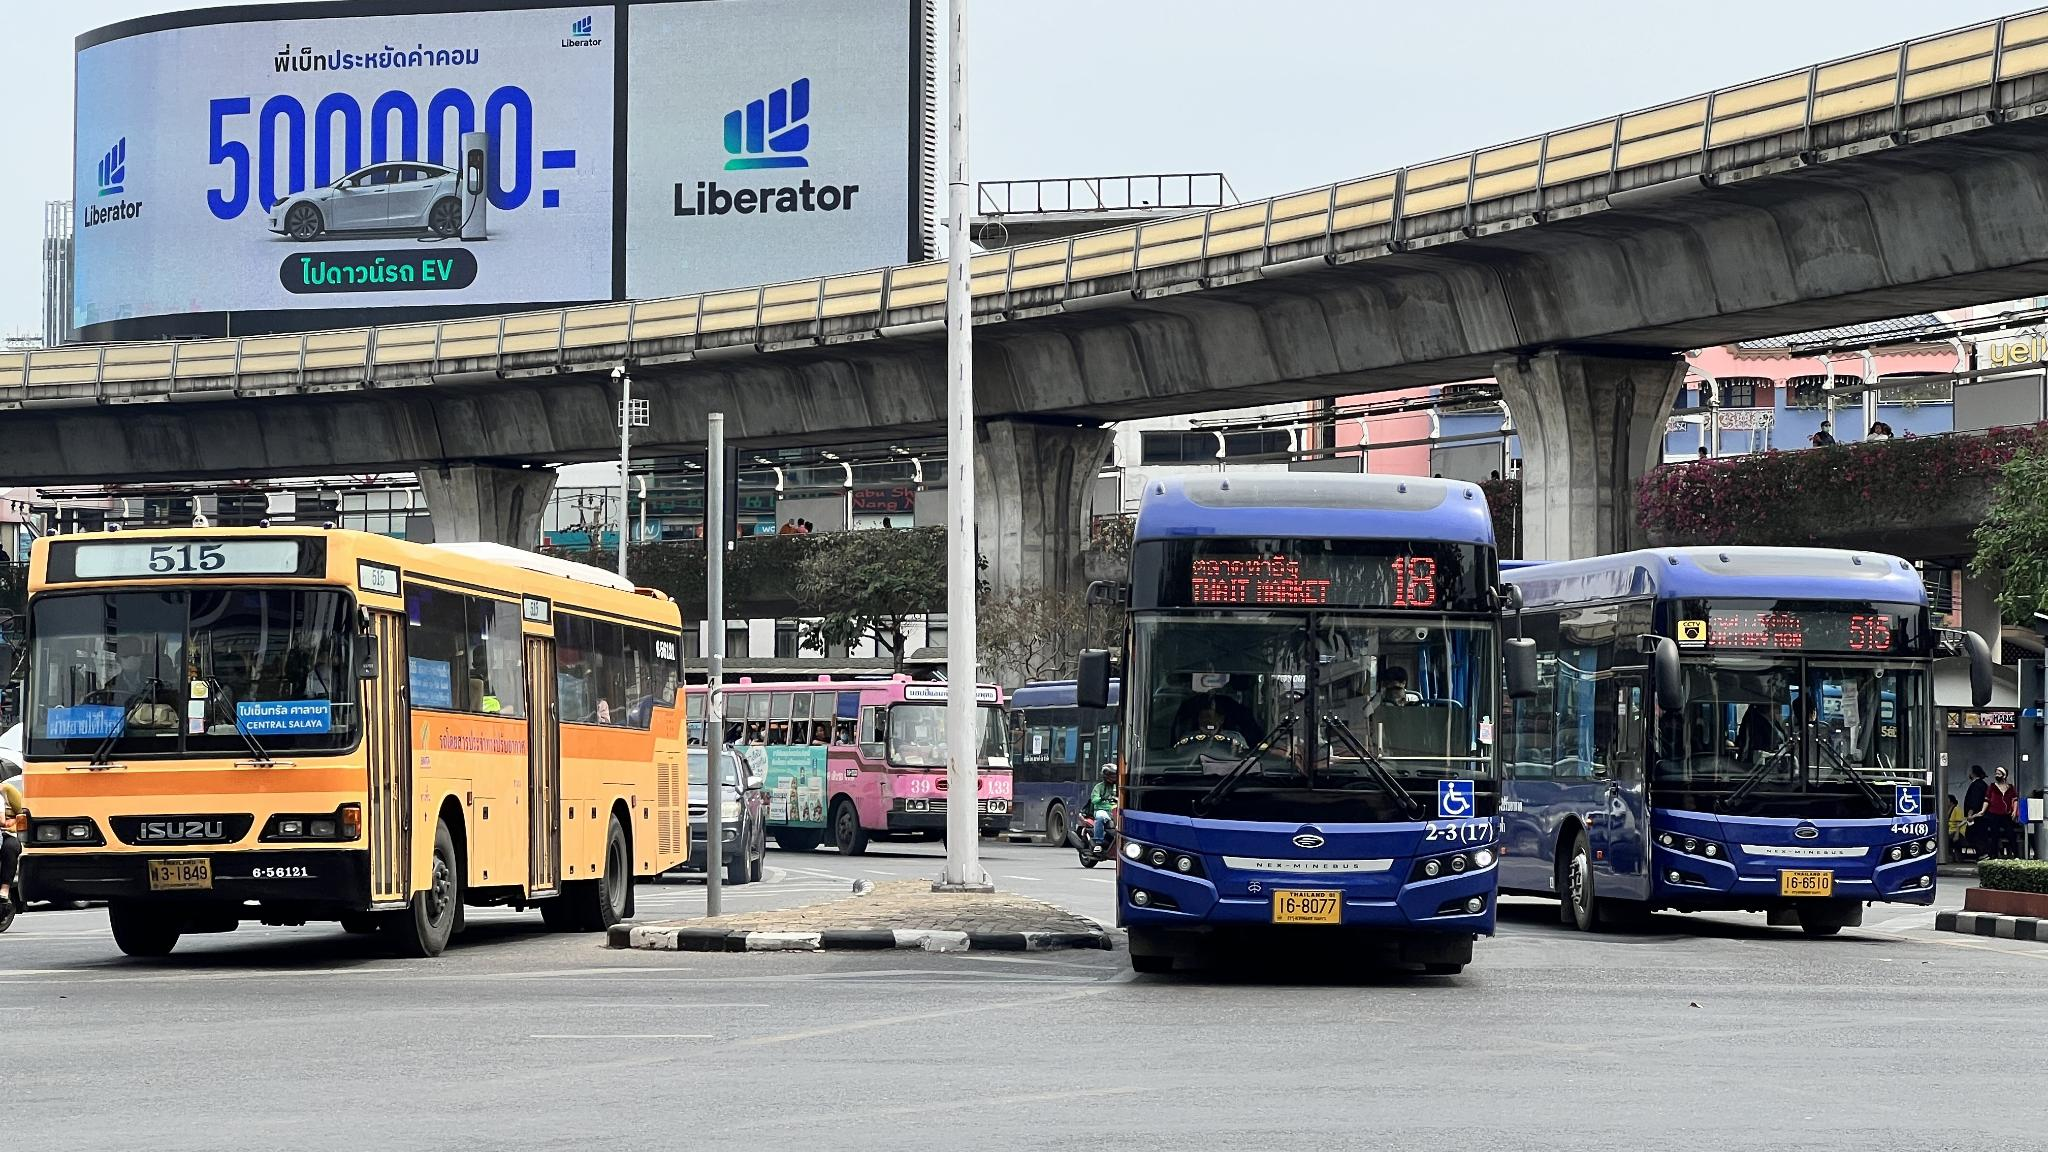BMTA-bus: (0, 508, 692, 964)
Bus Line Number: (1381, 542, 1452, 616), (134, 532, 242, 574), (1838, 610, 1900, 655)
Bus Side Number: (1414, 821, 1497, 844), (241, 859, 316, 881), (1883, 821, 1933, 837)
Destination Sign: (1187, 551, 1338, 603), (1705, 608, 1809, 651), (235, 699, 331, 736)
TSB-Bus: (1110, 467, 1502, 987), (1495, 549, 1954, 942), (999, 657, 1127, 869)
